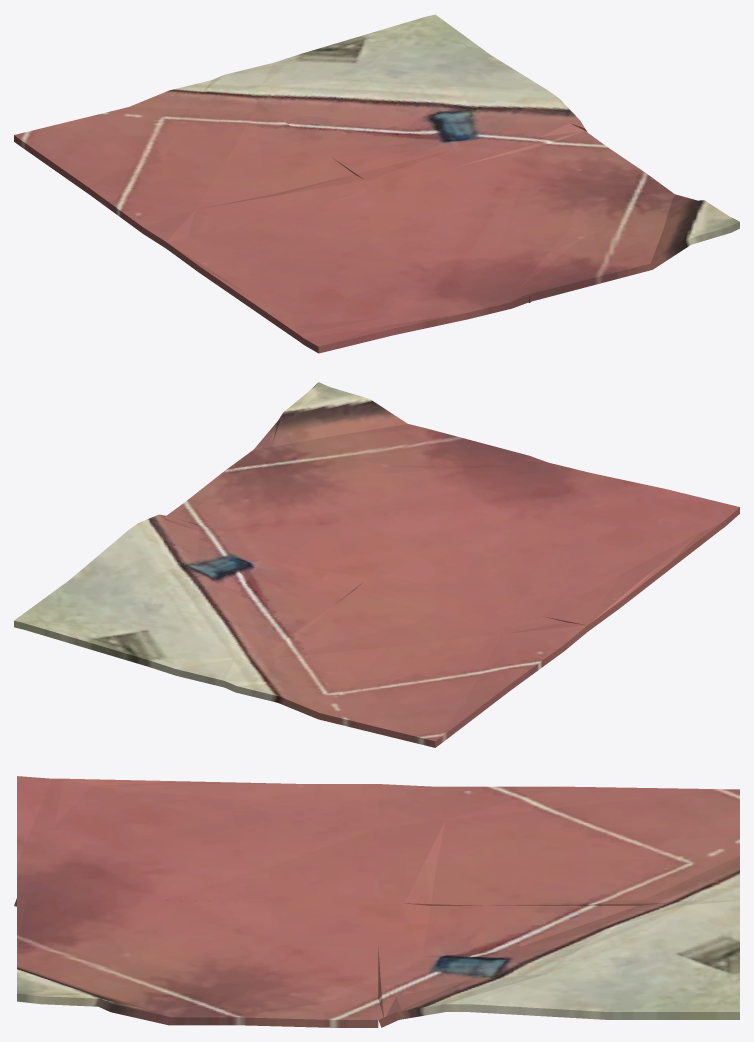
Rendered from BuildingMesh-00224.gltf.
The picture shows the model from 3 angles, top to bottom: view 1: azimuth 30°, elevation 25°; view 2: azimuth 150°, elevation 25°; view 3: azimuth 270°, elevation 25°; orthographic projection. The views are drawn at different scales.
Visible parts, largest first — view 1: BuildingMesh-00224; view 2: BuildingMesh-00224; view 3: BuildingMesh-00224.
Boxes of the visible parts, bbox=[...] form: BuildingMesh-00224: bbox=[14, 14, 739, 353]; BuildingMesh-00224: bbox=[14, 382, 739, 747]; BuildingMesh-00224: bbox=[14, 776, 739, 1027].
Bounding box in the file's own units: 0.7765 × 0.0706 × 0.9765.
Materials: 1 (1 with a texture image).
